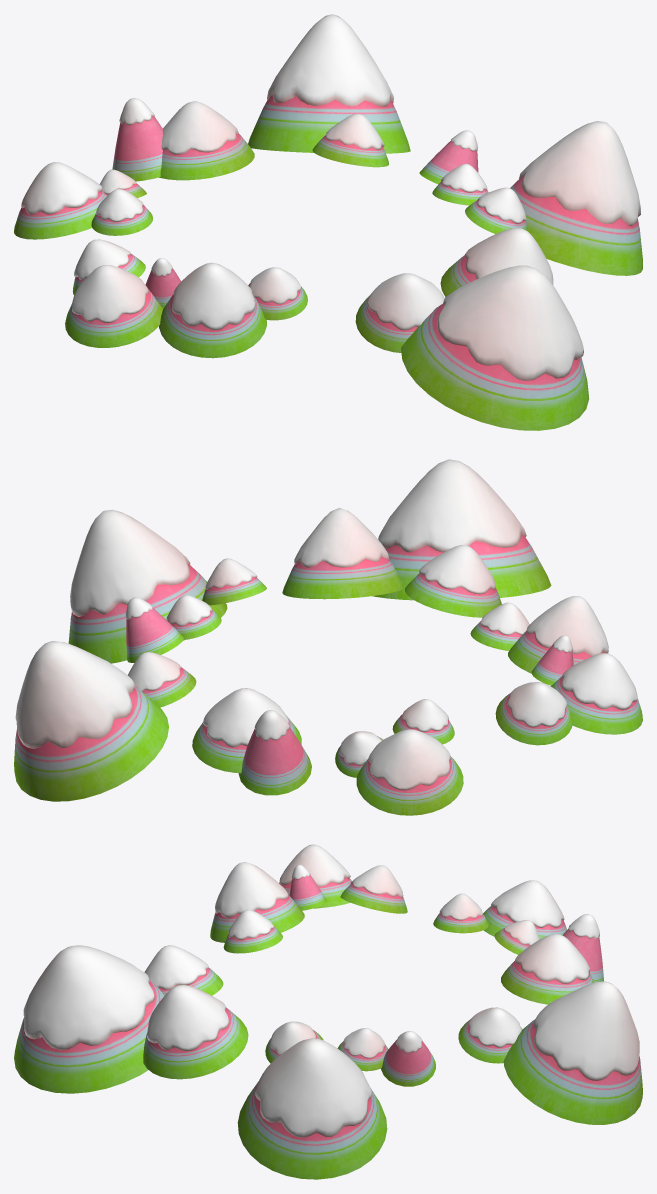
The model's file is HexAGoneMountain.fbx.
The picture shows the model from 3 angles, top to bottom: view 1: azimuth 30°, elevation 25°; view 2: azimuth 150°, elevation 25°; view 3: azimuth 270°, elevation 25°; orthographic projection. The views are drawn at different scales.
Visible parts, largest first — view 1: Combined_Mesh__root__scene__21, Combined_Mesh__root__scene__28, Combined_Mesh__root__scene__20, Combined_Mesh__root__scene__30, Combined_Mesh__root__scene__22, Combined_Mesh__root__scene__17, Combined_Mesh__root__scene__26, Combined_Mesh__root__scene__19, Combined_Mesh__root__scene__27, Combined_Mesh__root__scene__29, Combined_Mesh__root__scene__25, Combined_Mesh__root__scene__15 (+7 smaller); view 2: Combined_Mesh__root__scene__20, Combined_Mesh__root__scene__21, Combined_Mesh__root__scene__28, Combined_Mesh__root__scene__27, Combined_Mesh__root__scene__26, Combined_Mesh__root__scene__22, Combined_Mesh__root__scene__19, Combined_Mesh__root__scene__17, Combined_Mesh__root__scene__29, Combined_Mesh__root__scene__30, Combined_Mesh__root__scene__31, Combined_Mesh__root__scene__23 (+7 smaller); view 3: Combined_Mesh__root__scene__21, Combined_Mesh__root__scene__28, Combined_Mesh__root__scene__20, Combined_Mesh__root__scene__27, Combined_Mesh__root__scene__17, Combined_Mesh__root__scene__30, Combined_Mesh__root__scene__26, Combined_Mesh__root__scene__25, Combined_Mesh__root__scene__19, Combined_Mesh__root__scene__22, Combined_Mesh__root__scene__23, Combined_Mesh__root__scene__31 (+7 smaller).
Boxes of the visible parts, bbox=[...] form: Combined_Mesh__root__scene__21: bbox=[401, 265, 589, 430]; Combined_Mesh__root__scene__28: bbox=[510, 121, 642, 275]; Combined_Mesh__root__scene__20: bbox=[248, 14, 410, 153]; Combined_Mesh__root__scene__30: bbox=[159, 262, 266, 358]; Combined_Mesh__root__scene__22: bbox=[65, 265, 162, 347]; Combined_Mesh__root__scene__17: bbox=[159, 101, 254, 180]; Combined_Mesh__root__scene__26: bbox=[14, 162, 106, 239]; Combined_Mesh__root__scene__19: bbox=[355, 273, 444, 352]; Combined_Mesh__root__scene__27: bbox=[440, 228, 553, 296]; Combined_Mesh__root__scene__29: bbox=[112, 98, 163, 181]; Combined_Mesh__root__scene__25: bbox=[312, 113, 388, 167]; Combined_Mesh__root__scene__15: bbox=[248, 267, 307, 320]; Combined_Mesh__root__scene__20: bbox=[14, 641, 168, 801]; Combined_Mesh__root__scene__21: bbox=[372, 459, 551, 600]; Combined_Mesh__root__scene__28: bbox=[68, 509, 227, 663]; Combined_Mesh__root__scene__27: bbox=[282, 508, 402, 599]; Combined_Mesh__root__scene__26: bbox=[356, 729, 463, 815]; Combined_Mesh__root__scene__22: bbox=[551, 653, 642, 734]; Combined_Mesh__root__scene__19: bbox=[405, 545, 501, 617]; Combined_Mesh__root__scene__17: bbox=[192, 688, 301, 773]; Combined_Mesh__root__scene__29: bbox=[238, 710, 311, 795]; Combined_Mesh__root__scene__30: bbox=[508, 596, 608, 673]; Combined_Mesh__root__scene__31: bbox=[495, 682, 572, 745]; Combined_Mesh__root__scene__23: bbox=[125, 597, 183, 662]; Combined_Mesh__root__scene__21: bbox=[14, 945, 164, 1093]; Combined_Mesh__root__scene__28: bbox=[237, 1038, 387, 1179]; Combined_Mesh__root__scene__20: bbox=[503, 981, 642, 1124]; Combined_Mesh__root__scene__27: bbox=[143, 985, 248, 1079]; Combined_Mesh__root__scene__17: bbox=[501, 933, 594, 1004]; Combined_Mesh__root__scene__30: bbox=[210, 862, 304, 942]; Combined_Mesh__root__scene__26: bbox=[483, 880, 566, 939]; Combined_Mesh__root__scene__25: bbox=[458, 1007, 522, 1063]; Combined_Mesh__root__scene__19: bbox=[144, 945, 223, 995]; Combined_Mesh__root__scene__22: bbox=[279, 844, 351, 908]; Combined_Mesh__root__scene__23: bbox=[380, 1031, 435, 1086]; Combined_Mesh__root__scene__31: bbox=[340, 865, 407, 913].
Size of the model in its own units: 10241 by 2686 by 11145.
